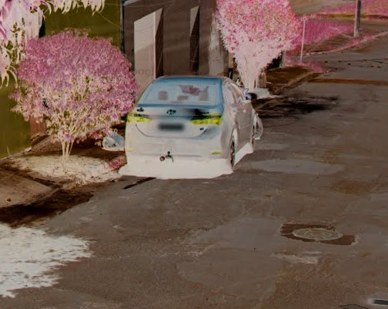car: (122, 67, 258, 177)
